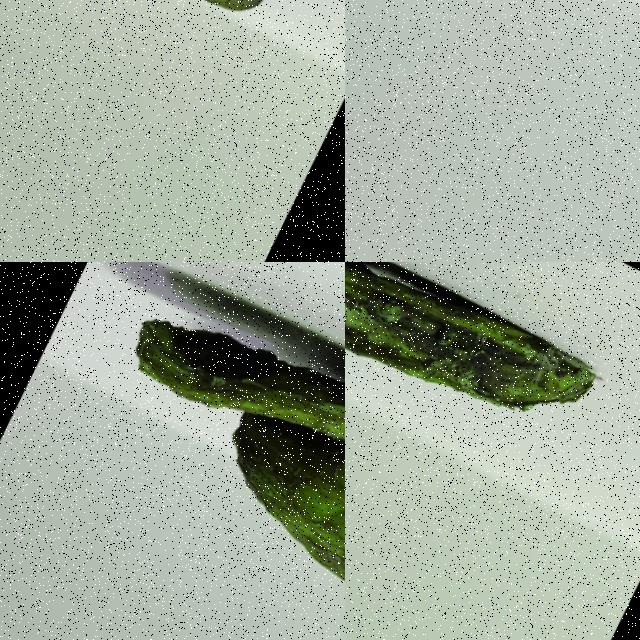Agglomerated_cocoabeans: (0, 262, 344, 639), (0, 0, 344, 125)
Fine_cocoabeans: (345, 0, 639, 74)
Flat_cocoabeans: (345, 262, 639, 525)
